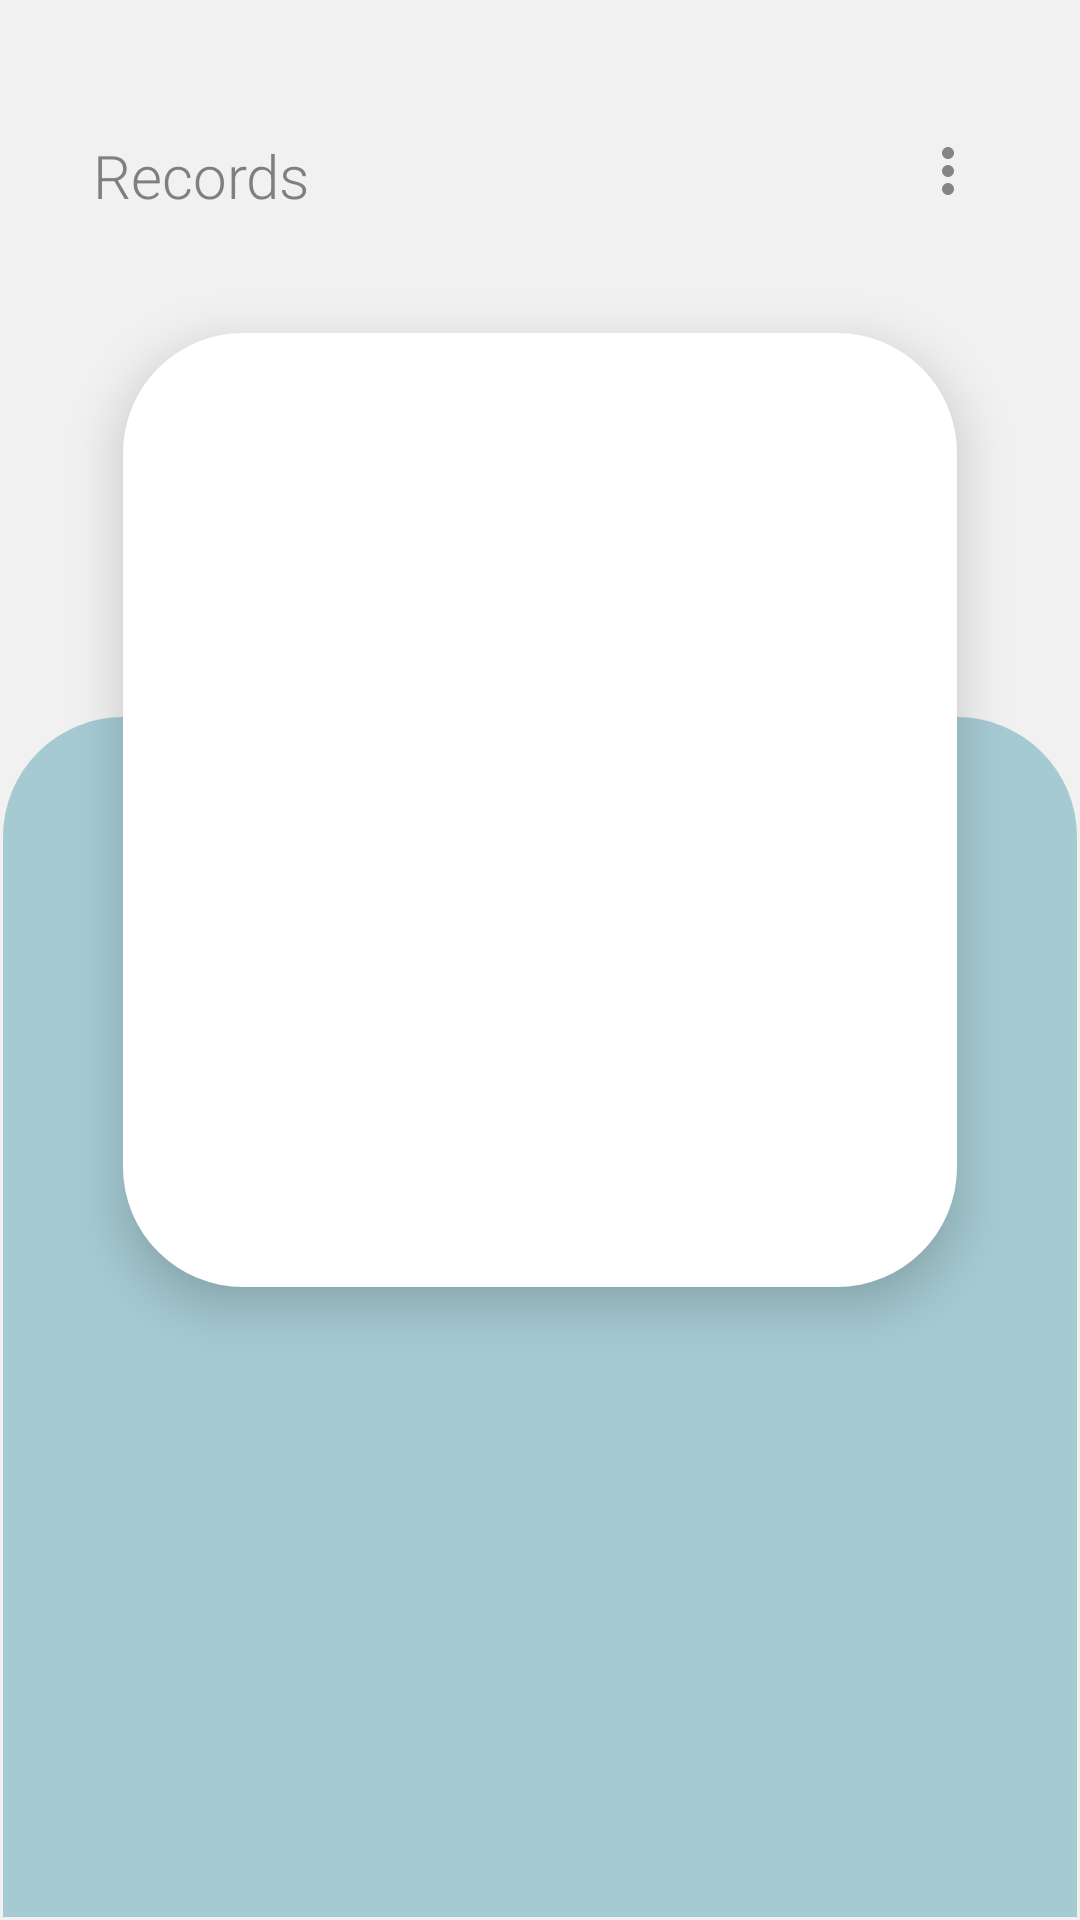

Locate icon controls on the screen. Image size 1080×1920, boxes as (x1, y1, x2, y2).
more vert: (942, 147, 954, 195)
